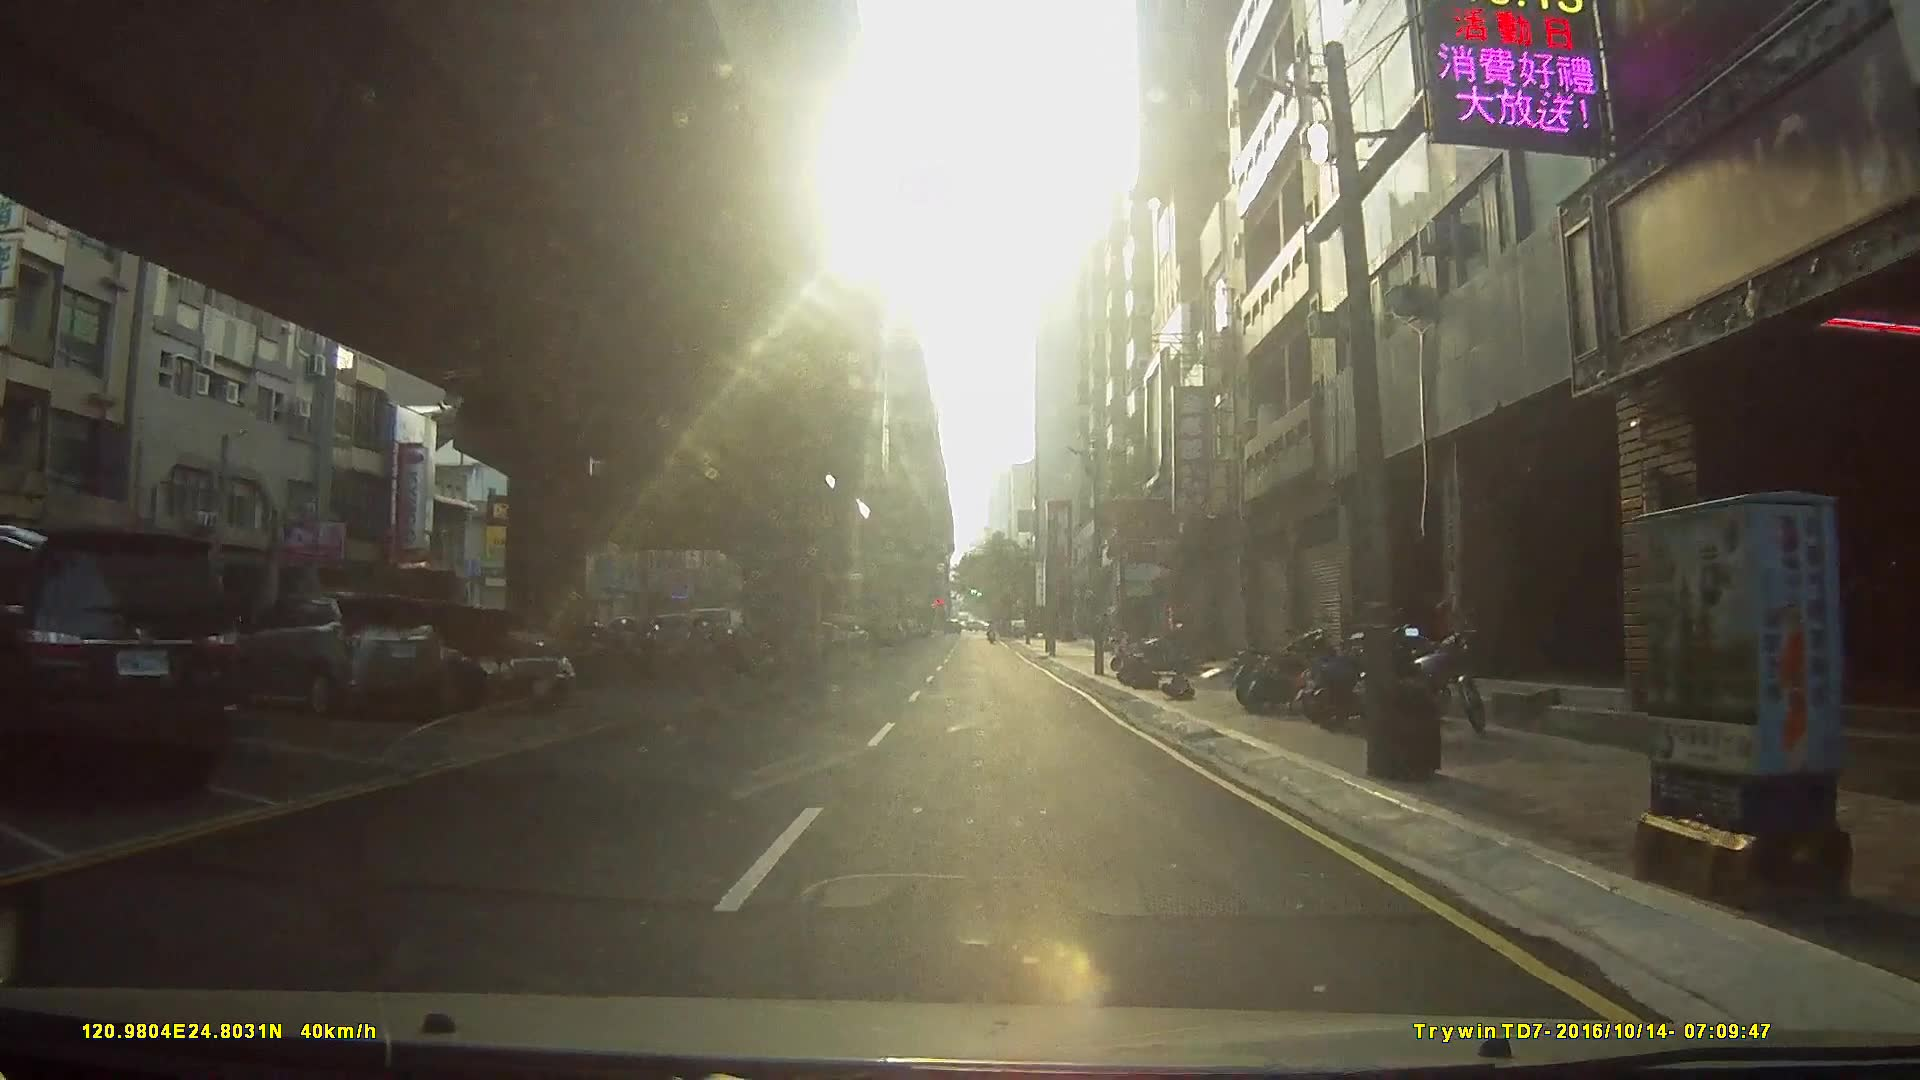vehicle: (0, 525, 237, 802), (211, 591, 442, 720), (326, 605, 574, 716)
